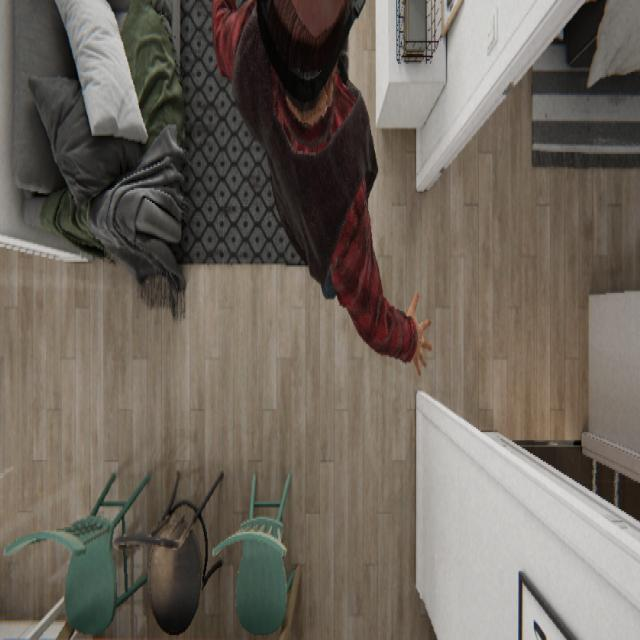Human: (210, 0, 432, 376)
